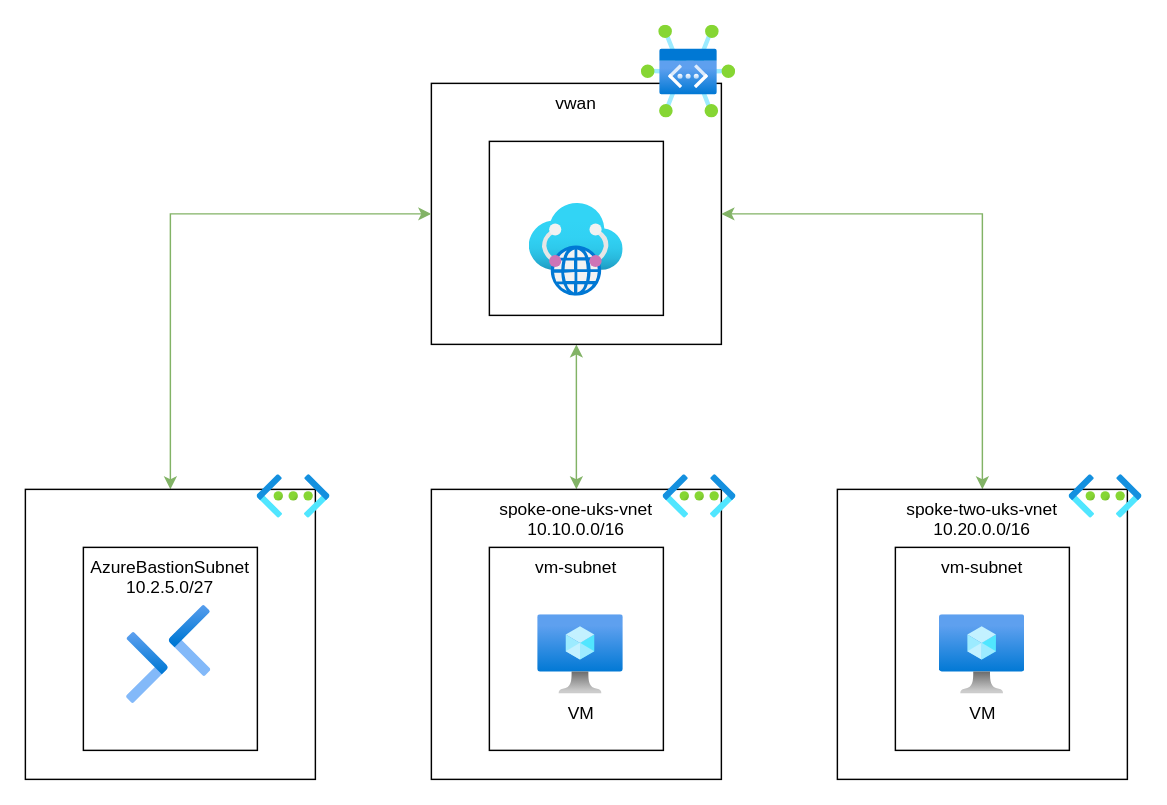
Some shapes in this 1167 by 805 pixel diagram are drawn without their labels. Each missing label, with the box of its shape:
Bastion: (126, 605, 210, 703)
bastion-uks-vnet 10.2.0.0/16: (24, 488, 315, 779)
vhub-uks 10.0.0.0/16: (488, 140, 663, 315)
